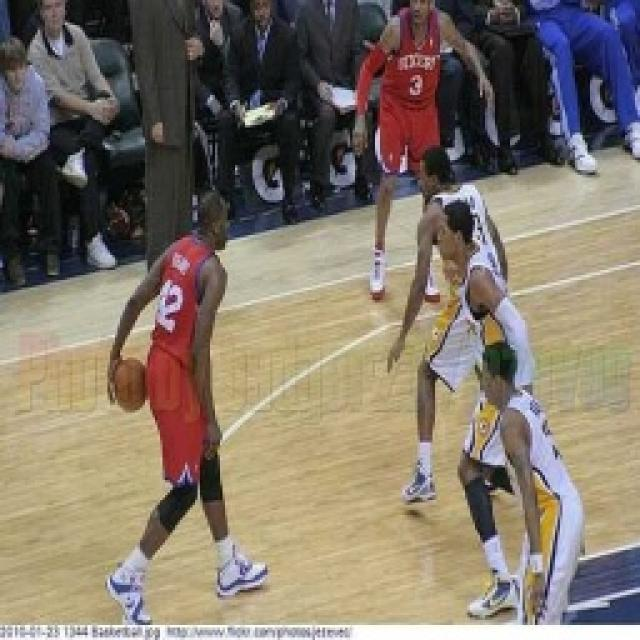rim: (102, 354, 158, 414)
